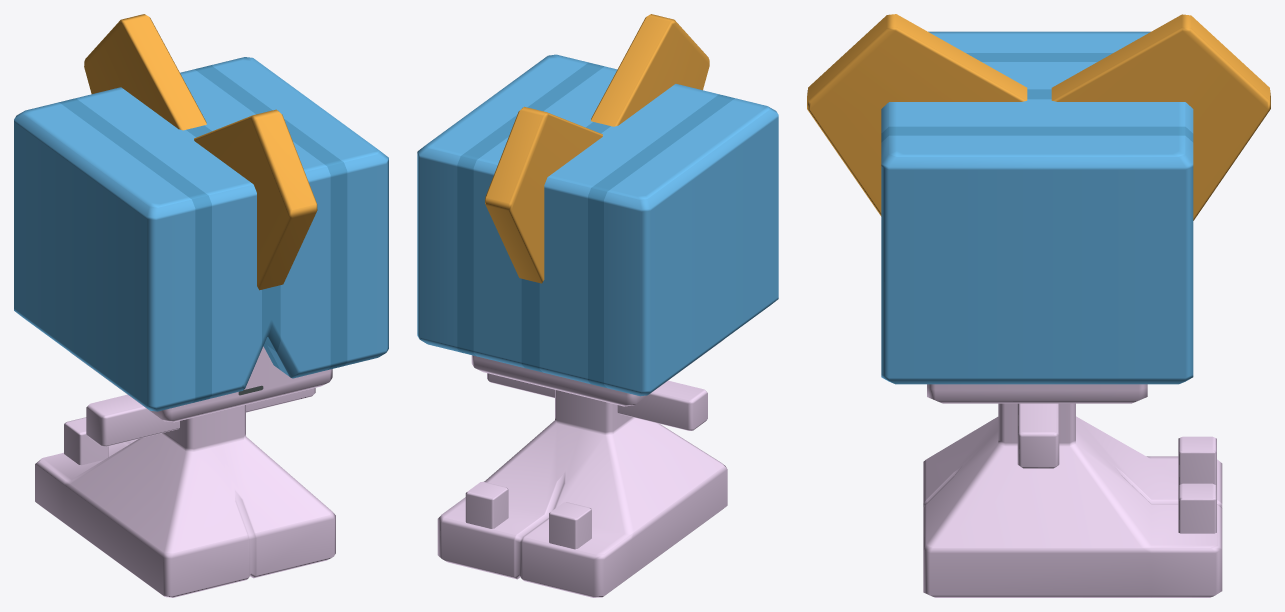
The model's file is model_shiny.obj.
3 views of the same model, side by side, from view 1: azimuth 30°, elevation 25°; view 2: azimuth 150°, elevation 25°; view 3: azimuth 270°, elevation 25° (orthographic). The views are drawn at different scales.
Visible parts, largest first — view 1: 0280_ralts_shiny; view 2: 0280_ralts_shiny; view 3: 0280_ralts_shiny.
Boxes of the visible parts, box(x1,y1,x2,y2) form: 0280_ralts_shiny: box(14, 14, 388, 597); 0280_ralts_shiny: box(417, 14, 778, 597); 0280_ralts_shiny: box(807, 14, 1270, 597).
Size of the model in its own units: 0.9254 by 1.74 by 1.38.
1 material, 1 textured.
